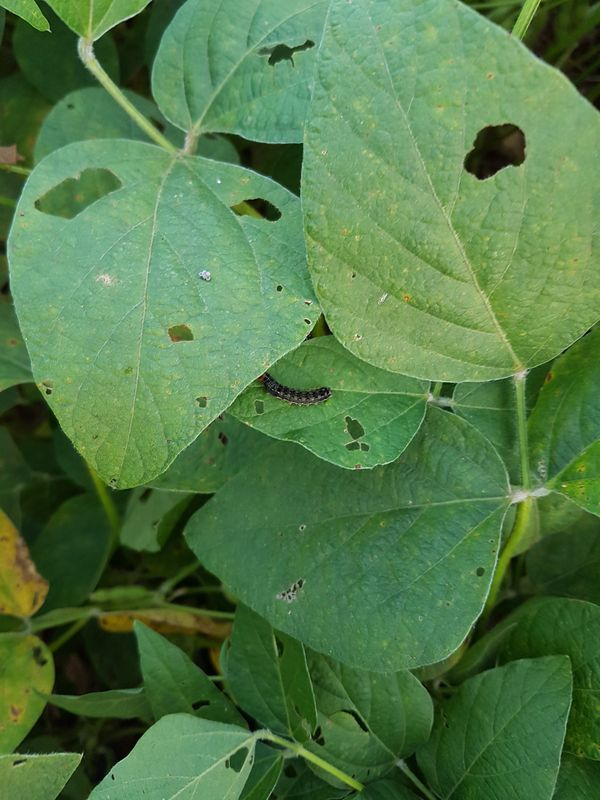Spodoptera_albula: (244, 362, 339, 419)
